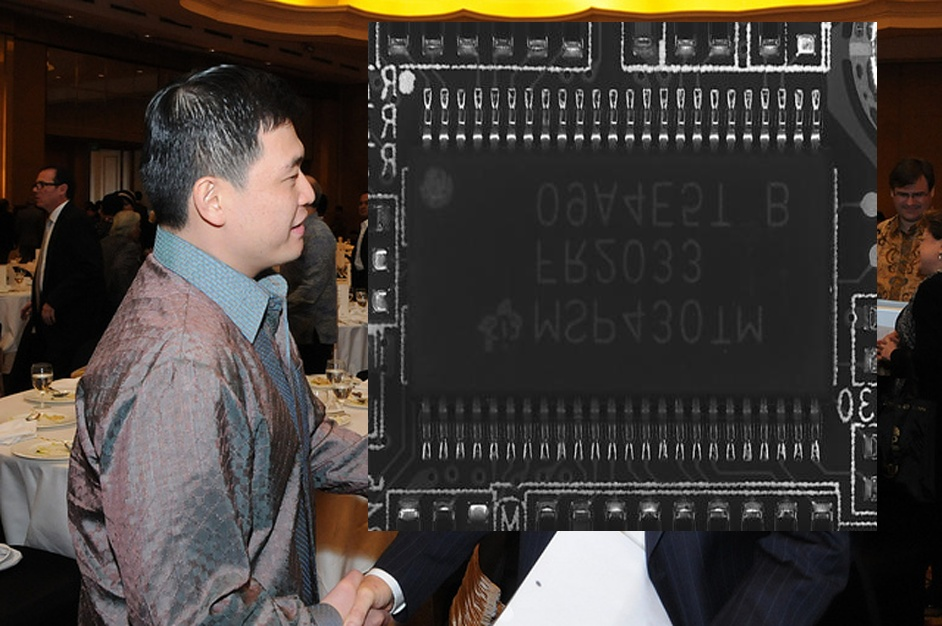PIN: (407, 384, 834, 469), (410, 75, 832, 152)
wineglass: (325, 357, 345, 409), (30, 363, 52, 410), (329, 375, 353, 413), (356, 291, 366, 318)
